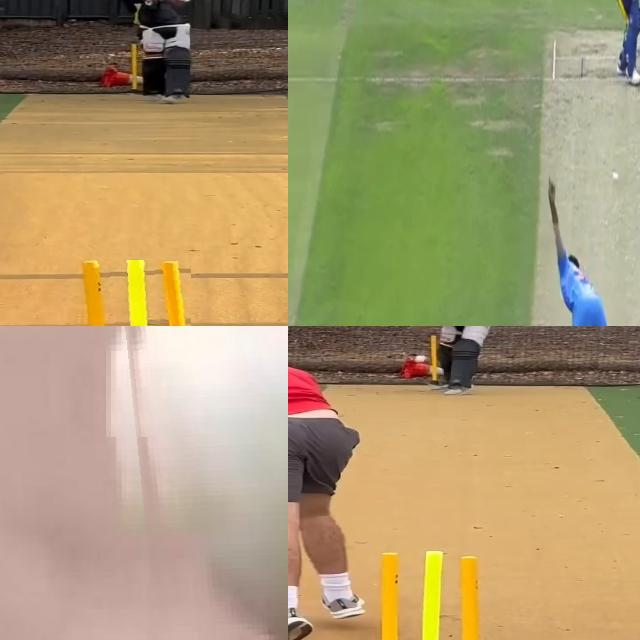Cricket ball: (106, 326, 288, 640), (411, 352, 429, 364), (610, 169, 620, 184)
Stumps: (359, 549, 497, 640), (73, 260, 191, 326)
